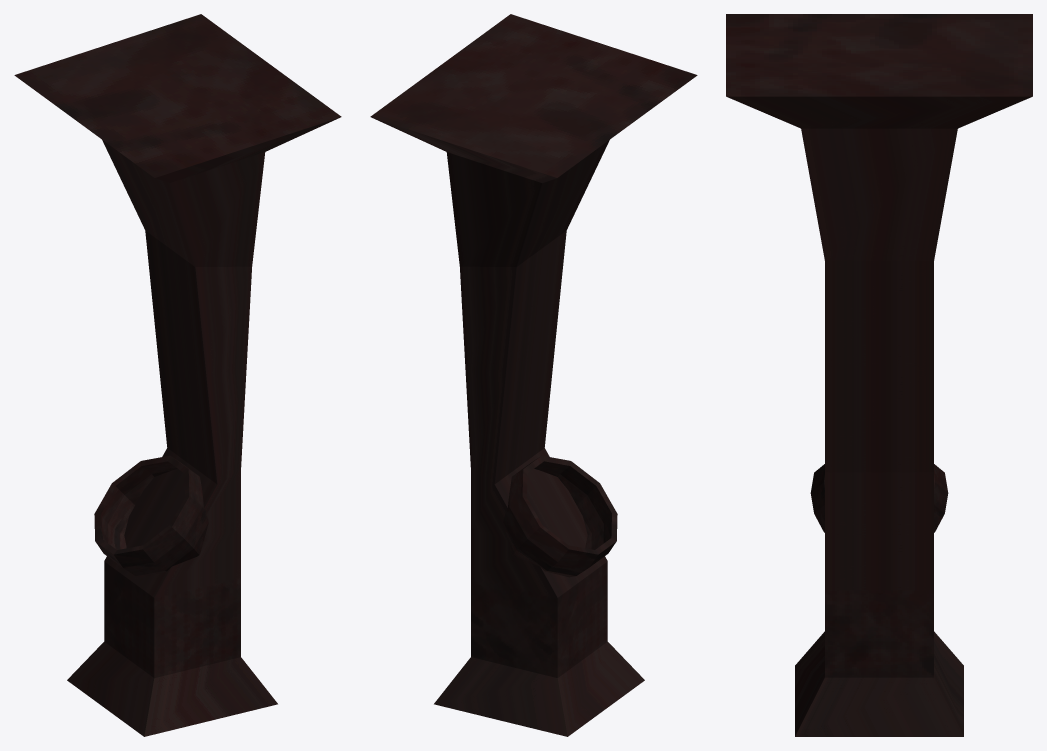
Rendered from trunk.glb.
3 views of the same model, side by side, from view 1: azimuth 30°, elevation 25°; view 2: azimuth 150°, elevation 25°; view 3: azimuth 270°, elevation 25° (orthographic). The views are drawn at different scales.
Visible parts, largest first — view 1: trunk_col; view 2: trunk_col; view 3: trunk_col.
Boxes of the visible parts, bbox=[...] form: trunk_col: bbox=[14, 14, 341, 736]; trunk_col: bbox=[370, 14, 697, 736]; trunk_col: bbox=[726, 14, 1032, 736].
Bounding box in the file's own units: 2.16 × 6.64 × 2.81.
Materials: 1 (1 with a texture image).
